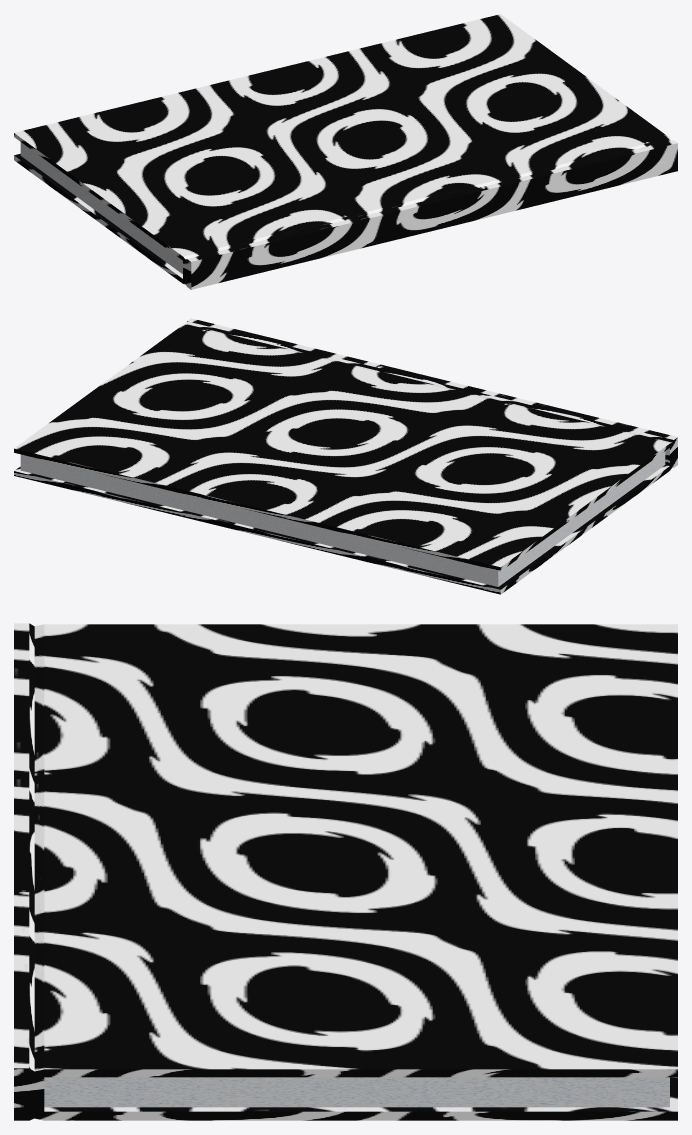
The model's file is NoteBook.fbx.
3 views of the same model, one above another, from view 1: azimuth 30°, elevation 25°; view 2: azimuth 150°, elevation 25°; view 3: azimuth 270°, elevation 25° (orthographic). The views are drawn at different scales.
Parts seen in each view (by area): view 1: Cube.030; view 2: Cube.030; view 3: Cube.030.
Boxes of the visible parts, left/top/right/bottom form: Cube.030: left=14, top=14, right=677, bottom=289; Cube.030: left=14, top=318, right=677, bottom=594; Cube.030: left=14, top=623, right=677, bottom=1120.
Size of the model in its own units: 1.12 by 0.0617 by 0.7091.
